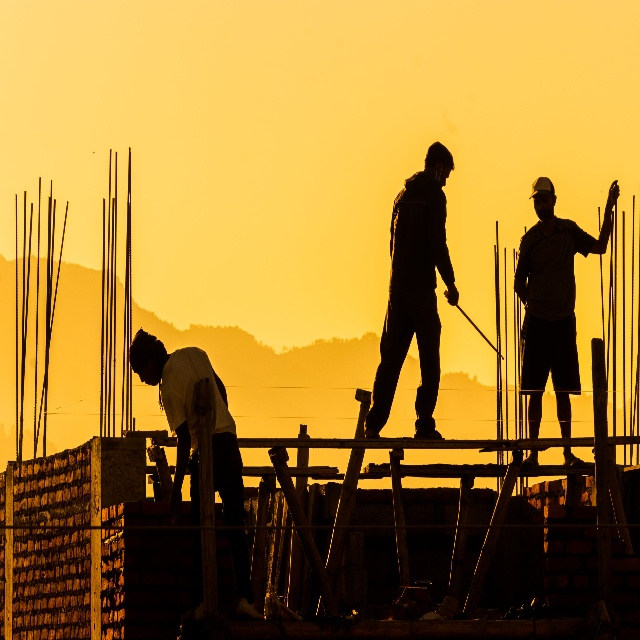Sin_guantes: (168, 485, 183, 514), (606, 180, 620, 208), (446, 283, 460, 307)
